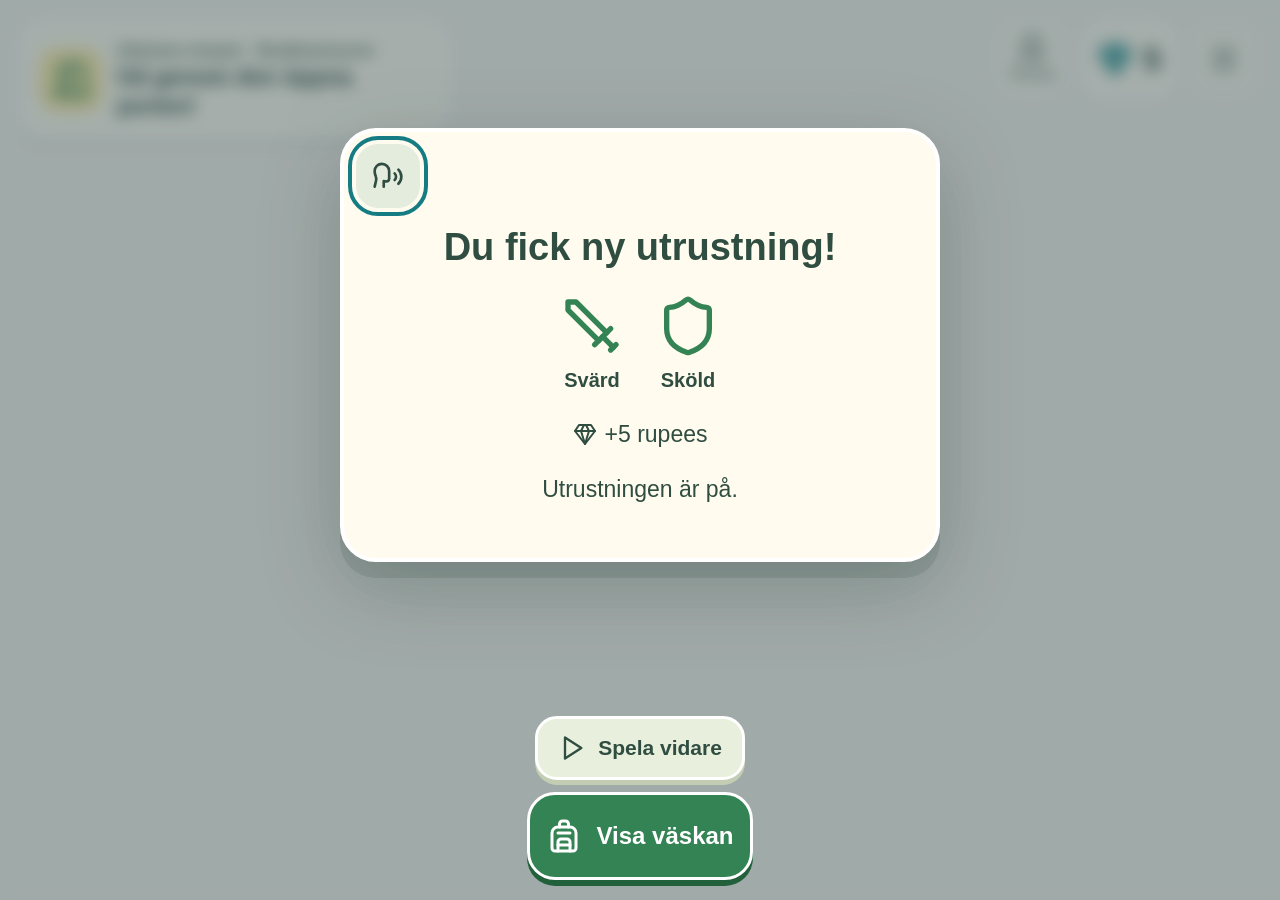
it: dialog action placement › stacks both reward actions in the corner and keeps the bag actions in the card
This screenshot has width=1280, height=900.
Click the button "Visa väskan" at (640, 836), box [528, 792, 752, 880]
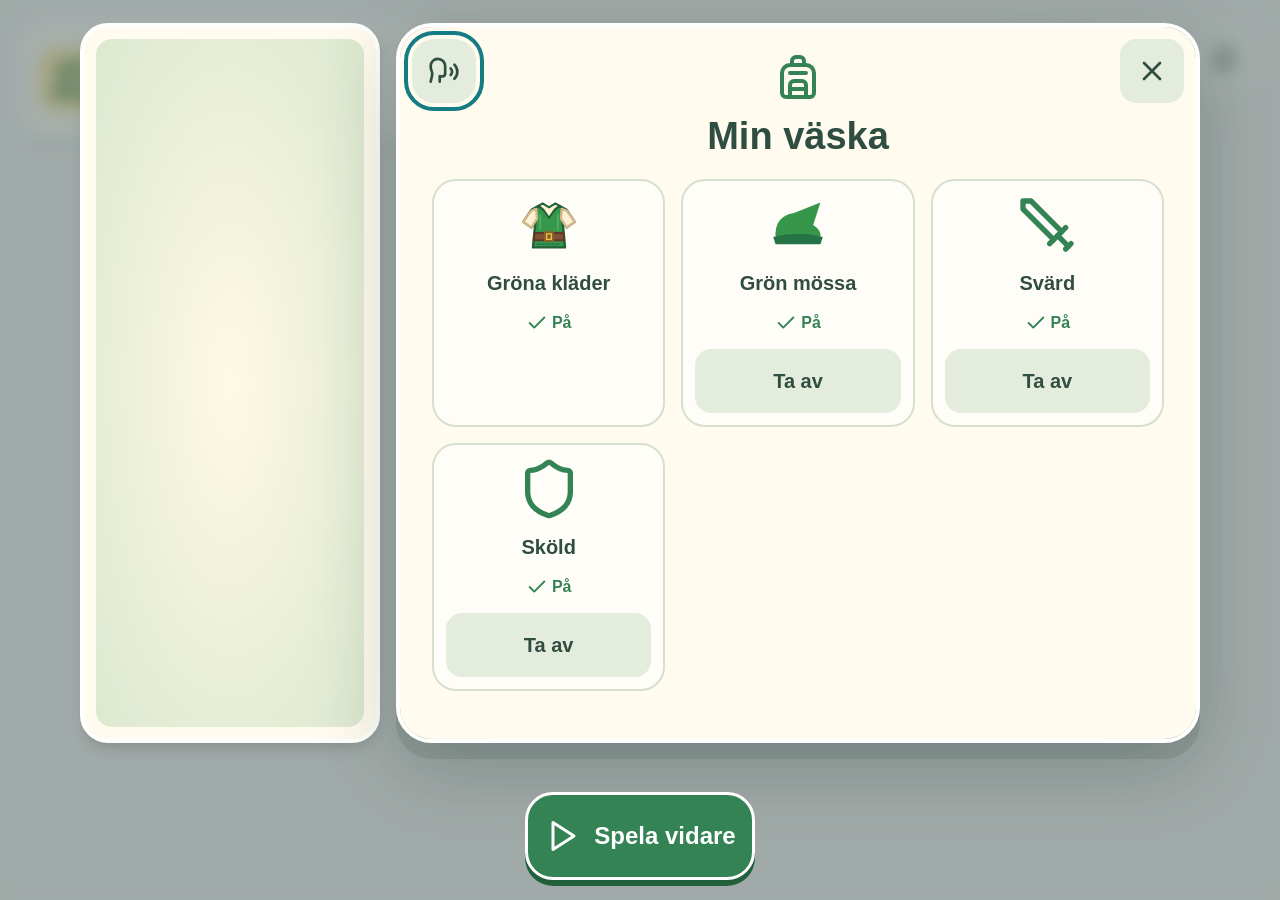
Now the button "Ta av" below "Svärd" is shown, box [945, 349, 1150, 413]
